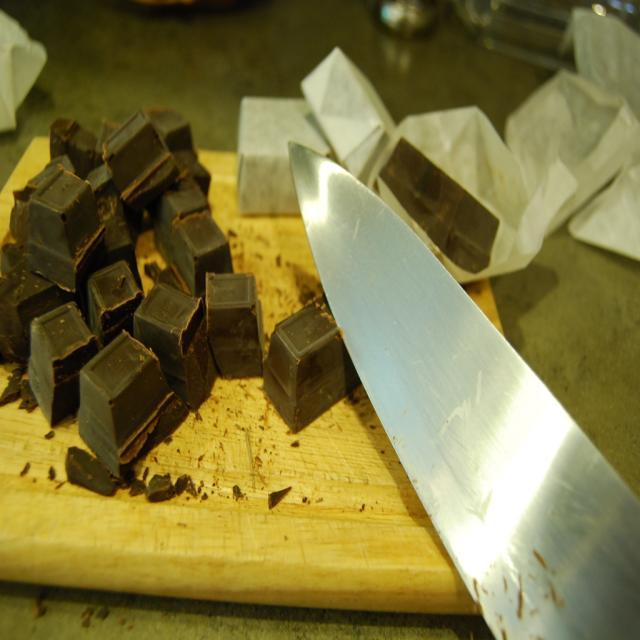Knife: (290, 144, 640, 640)
